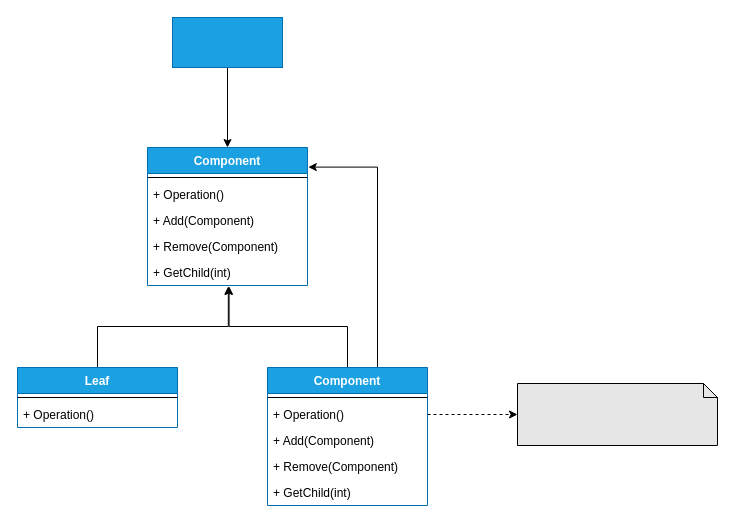
The diagram is 735 pixels wide and 526 high, and some of its shapes have lost their labels. The shapes that lost their labels are listed below. From the top down, each one's centre as x and y in pixels, then its label:
At pixel 227 42: "Client".
At pixel 617 414: "Forall g in children g.Operation()".
